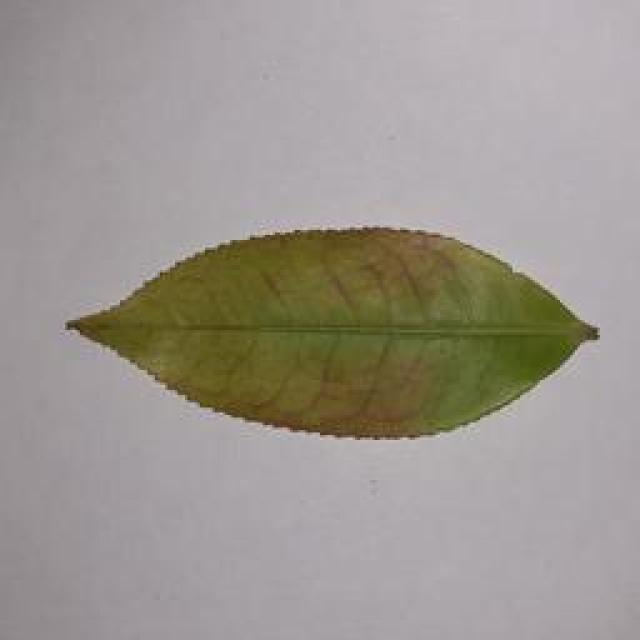Red Leaf Spot: (66, 222, 605, 448)
